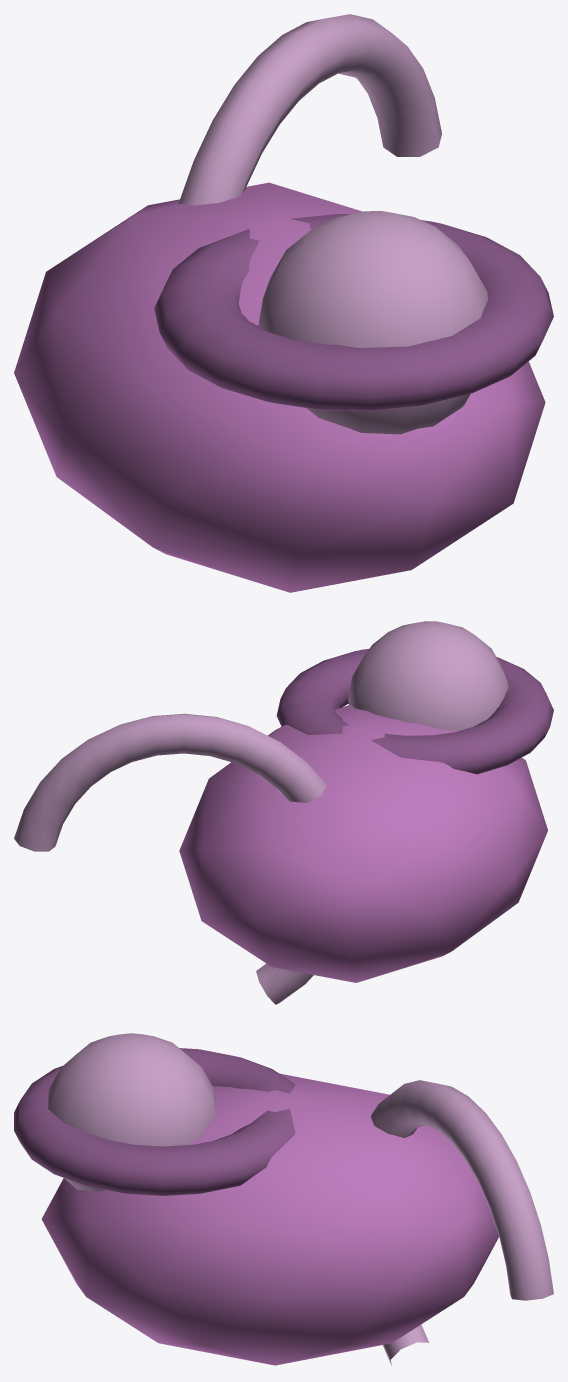
Rendered from star_boss.glb.
The picture shows the model from 3 angles, top to bottom: view 1: azimuth 30°, elevation 25°; view 2: azimuth 150°, elevation 25°; view 3: azimuth 270°, elevation 25°; orthographic projection. The views are drawn at different scales.
Parts seen in each view (by area): view 1: BOSS_star_comet_body, BOSS_star_comet_mane, BOSS_star_comet_head, BOSS_star_comet_tail; view 2: BOSS_star_comet_body, BOSS_star_comet_tail, BOSS_star_comet_head, BOSS_star_comet_mane; view 3: BOSS_star_comet_body, BOSS_star_comet_mane, BOSS_star_comet_head, BOSS_star_comet_tail.
Part boxes in pixels (bbox=[...]): BOSS_star_comet_body: bbox=[14, 182, 545, 592]; BOSS_star_comet_mane: bbox=[154, 214, 553, 411]; BOSS_star_comet_head: bbox=[258, 211, 488, 434]; BOSS_star_comet_tail: bbox=[178, 14, 441, 205]; BOSS_star_comet_body: bbox=[179, 704, 547, 982]; BOSS_star_comet_tail: bbox=[14, 713, 326, 1004]; BOSS_star_comet_head: bbox=[348, 621, 508, 730]; BOSS_star_comet_mane: bbox=[276, 649, 553, 774]; BOSS_star_comet_body: bbox=[41, 1073, 498, 1365]; BOSS_star_comet_mane: bbox=[14, 1048, 295, 1195]; BOSS_star_comet_head: bbox=[48, 1033, 215, 1191]; BOSS_star_comet_tail: bbox=[370, 1080, 553, 1365].
Size of the model in its own units: 3.3 by 2.41 by 3.76.
